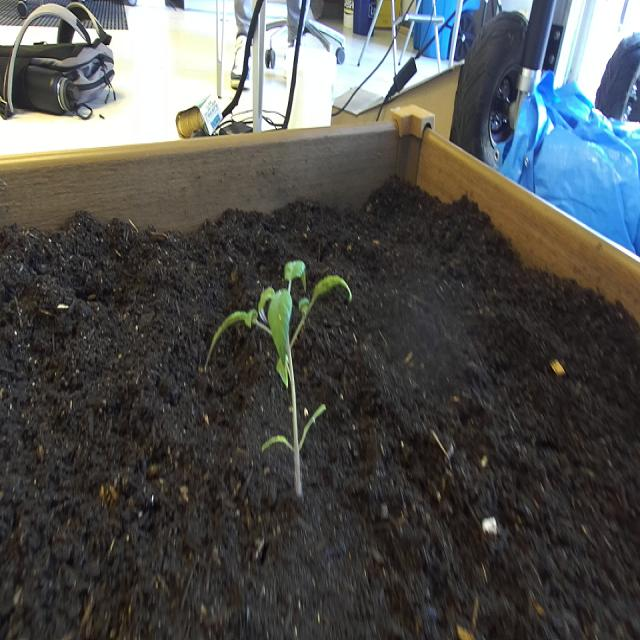Healthy: (202, 247, 357, 505)
